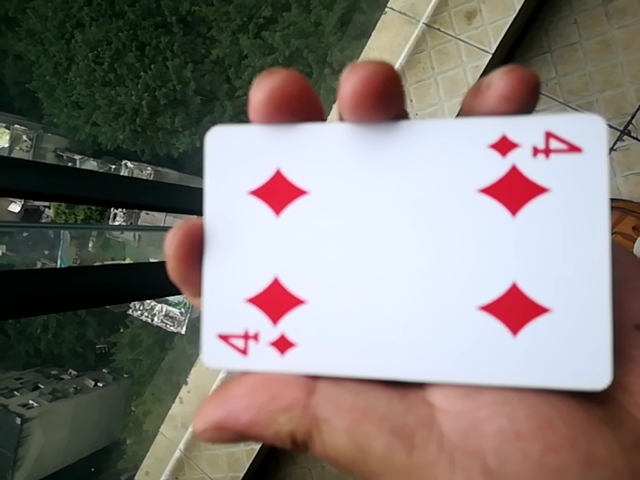fk 4: (181, 122, 609, 388)
